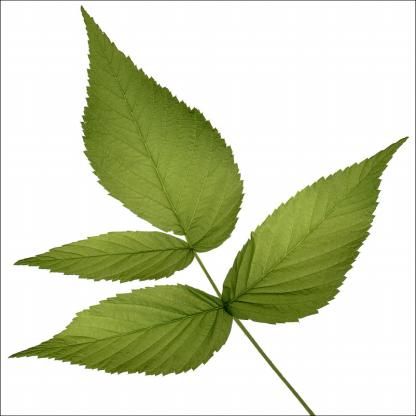raspberry leaf: (76, 5, 247, 253), (221, 135, 409, 326), (9, 281, 234, 379), (16, 229, 204, 282)
